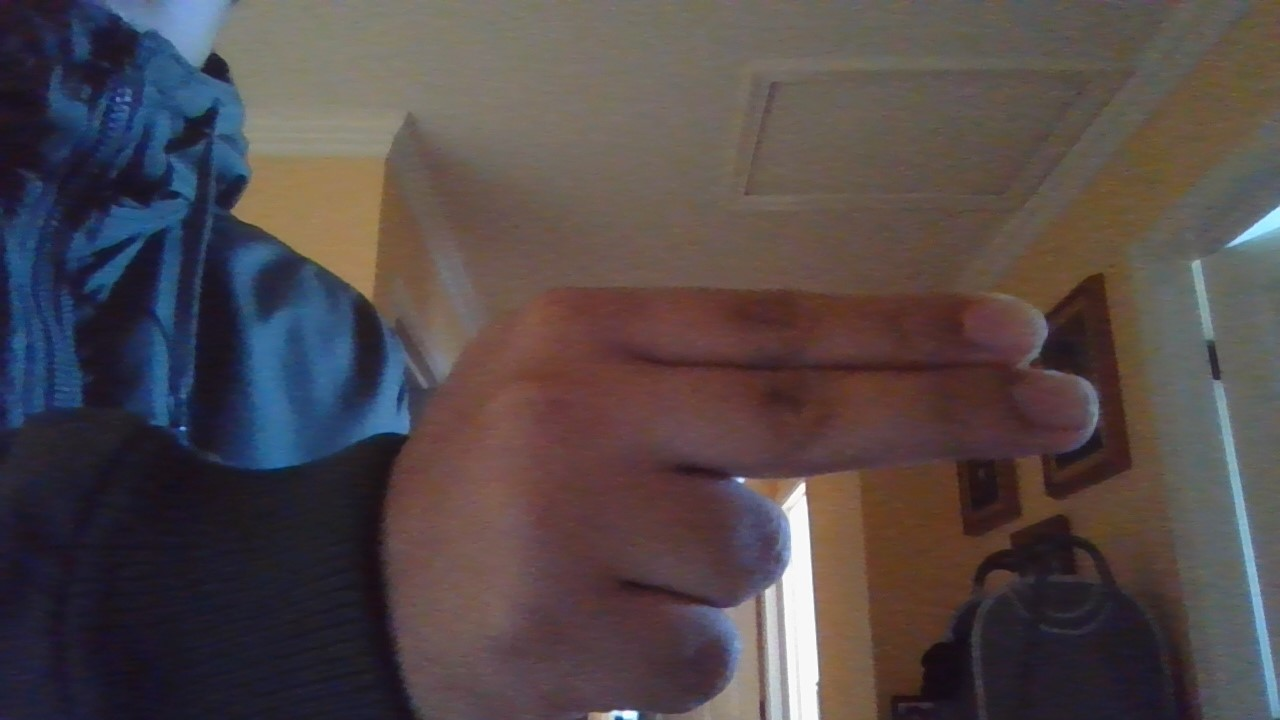h: (300, 236, 1114, 720)
